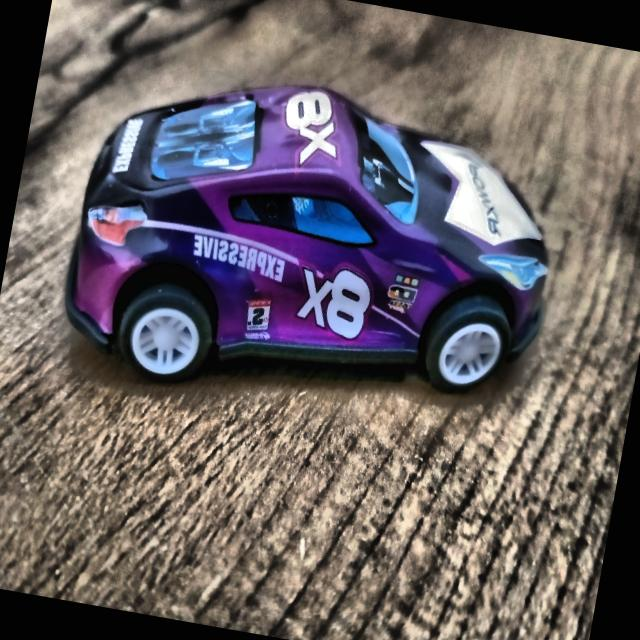Car: (49, 51, 572, 452)
